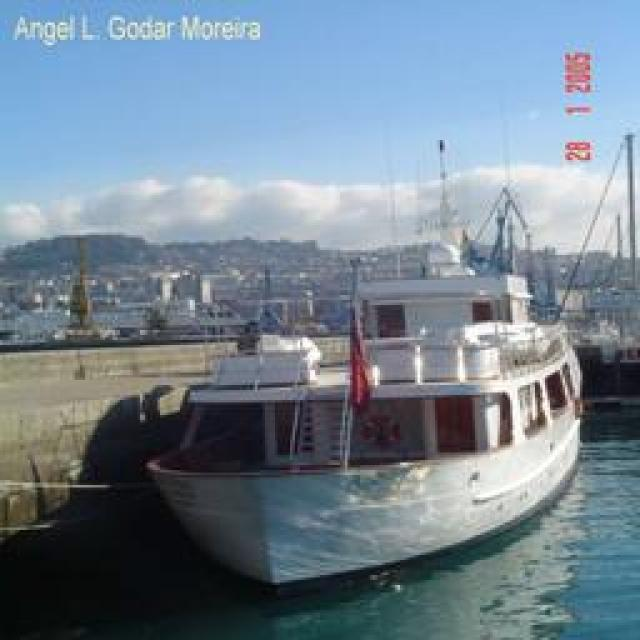CIV_Ship: (119, 266, 586, 599)
